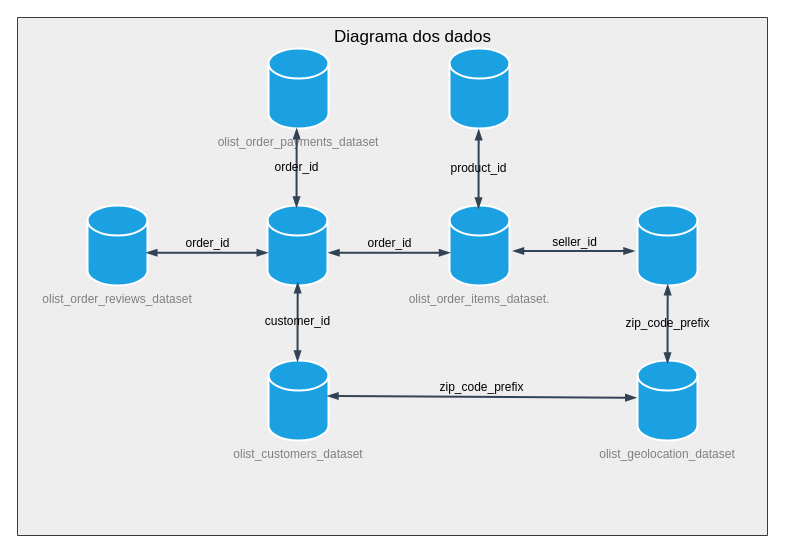
Image size: 785x553. Some labels were removed from this diagram. The box of each missing label's shape, as (x1, y1, x2, y2) in pixels:
olist_orders_dataset: (266, 204, 328, 286)
olist_products_dataset: (448, 47, 510, 129)
olist_sellers_dataset: (636, 204, 698, 286)
